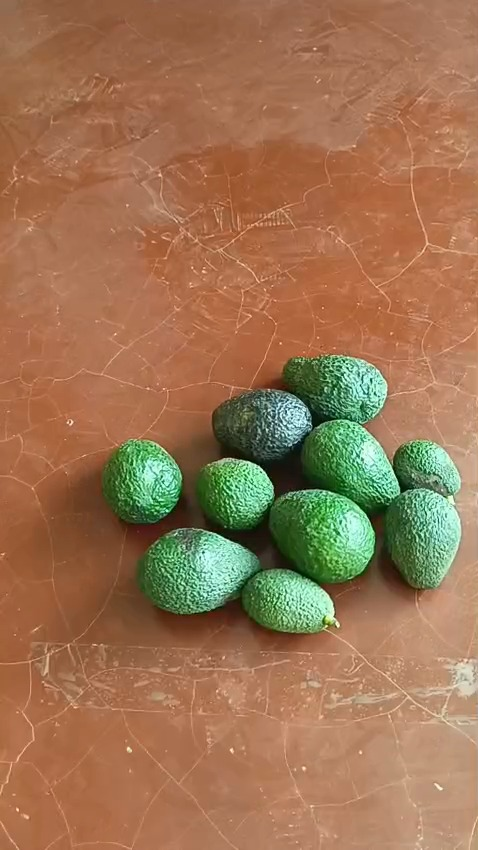Primera: (138, 527, 261, 614), (267, 487, 376, 582), (300, 419, 400, 512), (382, 487, 461, 588), (211, 388, 312, 462), (282, 353, 388, 423)
Segunda: (100, 438, 182, 523), (193, 457, 275, 530)
Tercera: (239, 566, 338, 633), (391, 438, 462, 498)
